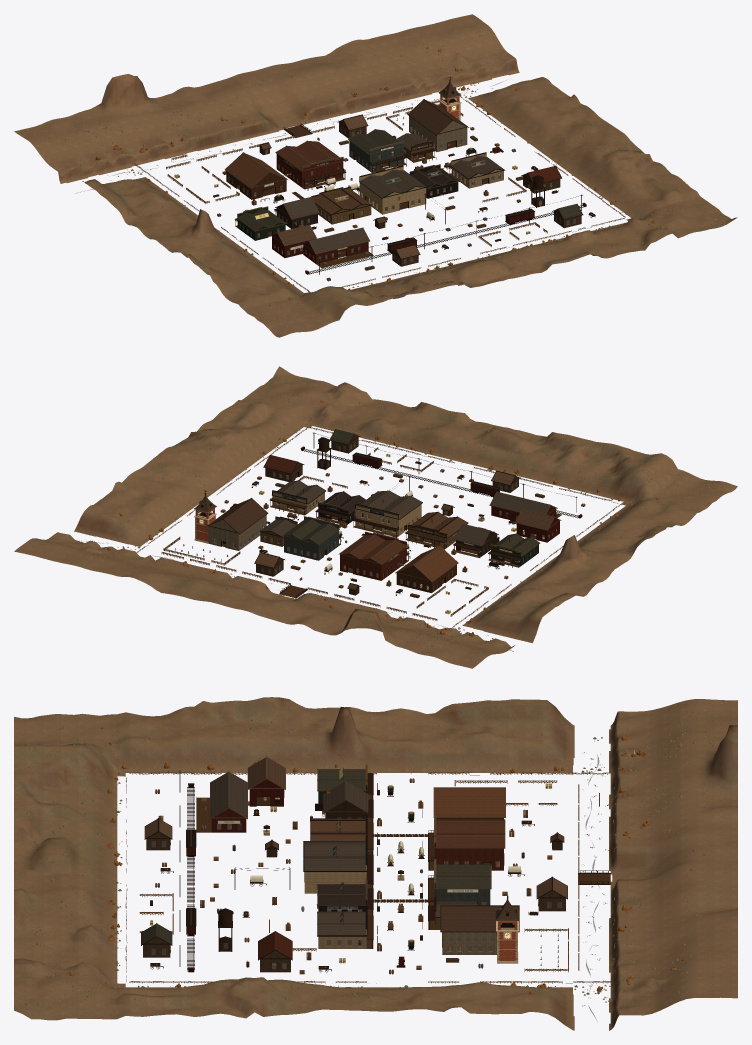
The model's file is frontier.glb.
The picture shows the model from 3 angles, top to bottom: view 1: azimuth 30°, elevation 25°; view 2: azimuth 150°, elevation 25°; view 3: azimuth 270°, elevation 25°; orthographic projection. The views are drawn at different scales.
Visible parts, largest first — view 1: outskirts (×4), roofs, walls, wood, stone, signs; view 2: outskirts (×4), roofs, walls, wood, stone; view 3: outskirts (×4), roofs, wood, walls, stone, kit (×2), signs.
Boxes of the visible parts, <box> form: outskirts (×4): <box>14,14,737,337</box>; roofs: <box>224,77,583,259</box>; walls: <box>226,116,581,266</box>; wood: <box>175,91,595,274</box>; stone: <box>359,94,503,214</box>; signs: <box>235,144,485,250</box>; outskirts (×4): <box>14,366,737,668</box>; roofs: <box>194,429,561,590</box>; walls: <box>208,434,559,595</box>; wood: <box>175,432,582,612</box>; stone: <box>175,491,484,561</box>; outskirts (×4): <box>14,697,737,1030</box>; roofs: <box>141,756,567,960</box>; wood: <box>144,764,610,972</box>; walls: <box>143,779,565,972</box>; stone: <box>263,830,558,967</box>; kit (×2): <box>500,772,614,983</box>; signs: <box>217,767,478,923</box>.
Size of what is drawn, in the model's own units: 210 by 21.73 by 210.
Materials: 14 (10 with a texture image).
